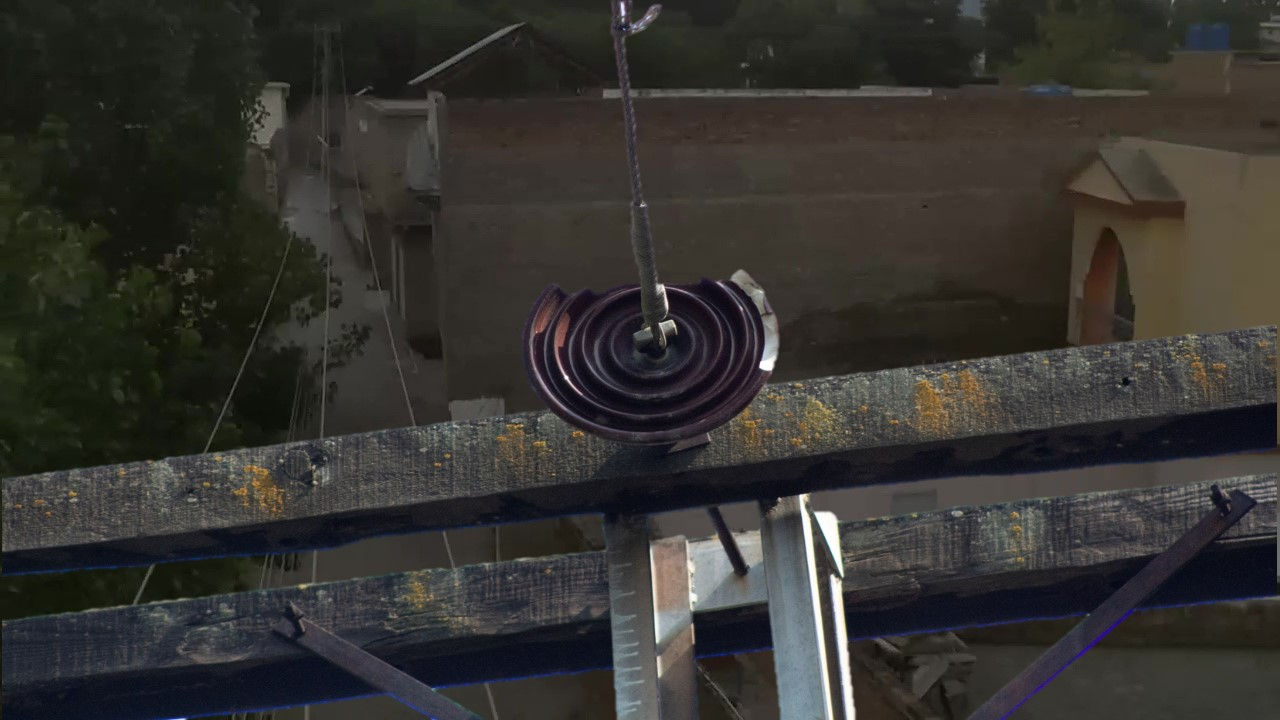defect_disc: (515, 255, 796, 464)
